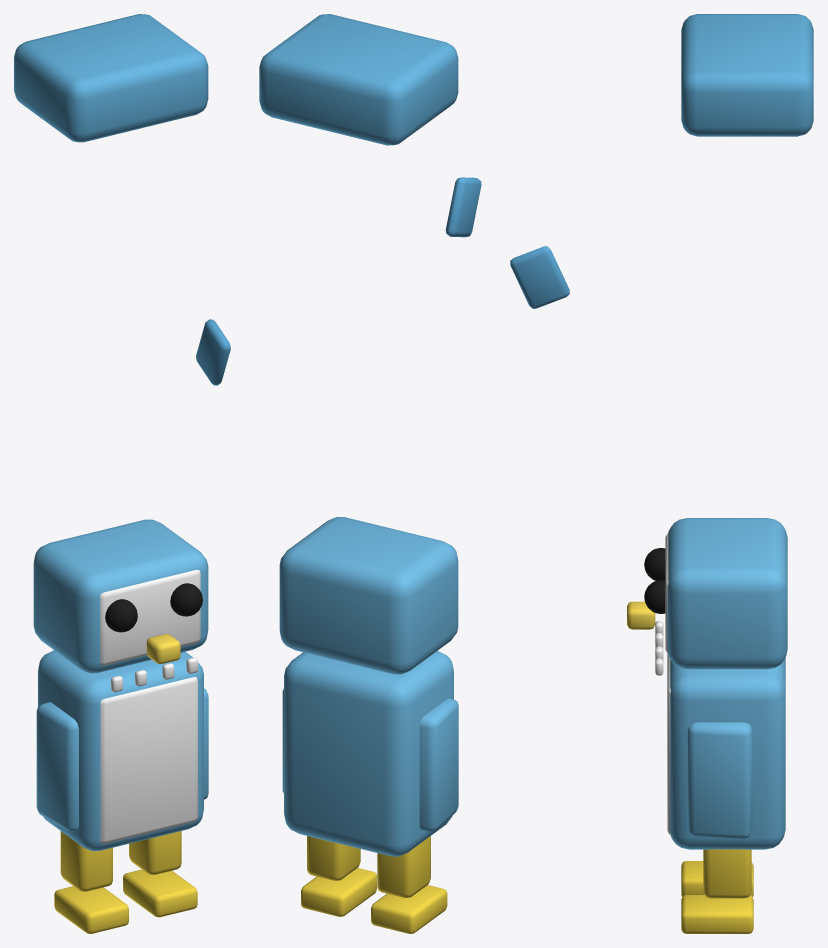
Rendered from Penguin_Shark.glb.
3 views of the same model, side by side, from view 1: azimuth 30°, elevation 25°; view 2: azimuth 150°, elevation 25°; view 3: azimuth 270°, elevation 25° (orthographic). The views are drawn at different scales.
Visible parts, largest first — view 1: Penguin_Shark; view 2: Penguin_Shark; view 3: Penguin_Shark.
Boxes of the visible parts, x1=… form: Penguin_Shark: x1=14, y1=14, x2=230, y2=933; Penguin_Shark: x1=259, y1=14, x2=481, y2=933; Penguin_Shark: x1=510, y1=14, x2=813, y2=933.
Bounding box in the file's own units: 0.8797 × 4.75 × 1.51.
